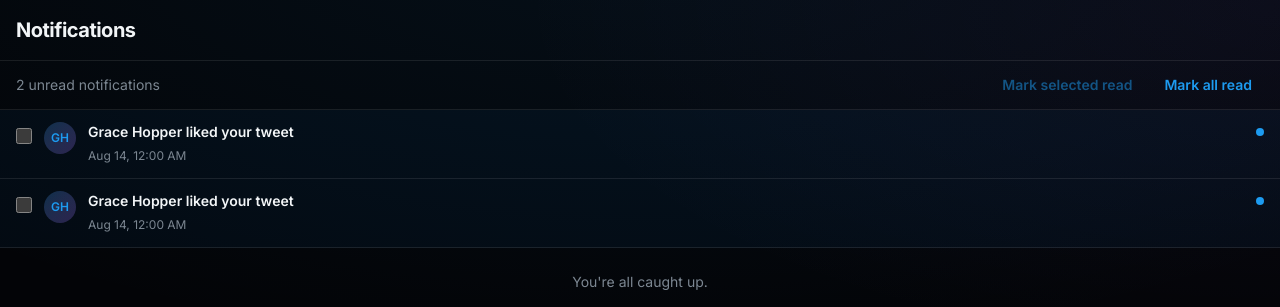
NotificationsPanel › selecting rows via checkbox enables "Mark selected read", which marks only those rows read
Expected: the text "2 unread notifications" is shown, [16,75,160,95]
Expected: the button "Mark selected read" is disabled, [990,69,1144,101]
Click the 1st checkbox named "Select notification: Grace Hopper liked your tweet": (24, 136) [16,128,32,144]
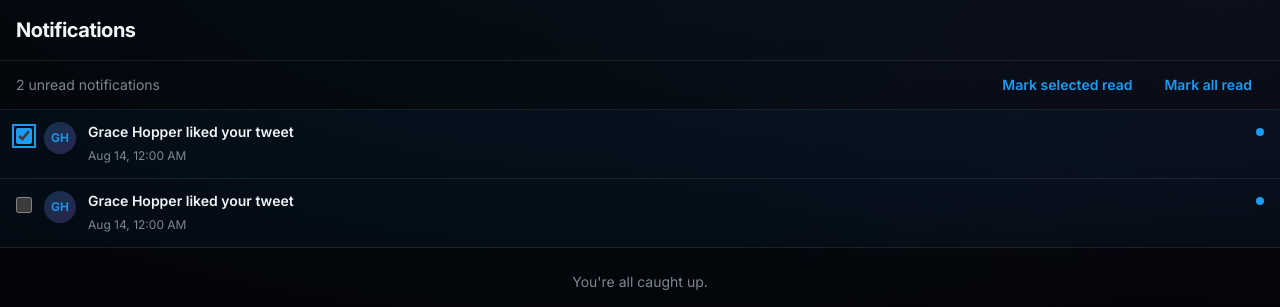
Expected: the button "Mark selected read" is enabled
Click the button "Mark selected read": (1067, 85) [990,69,1144,101]
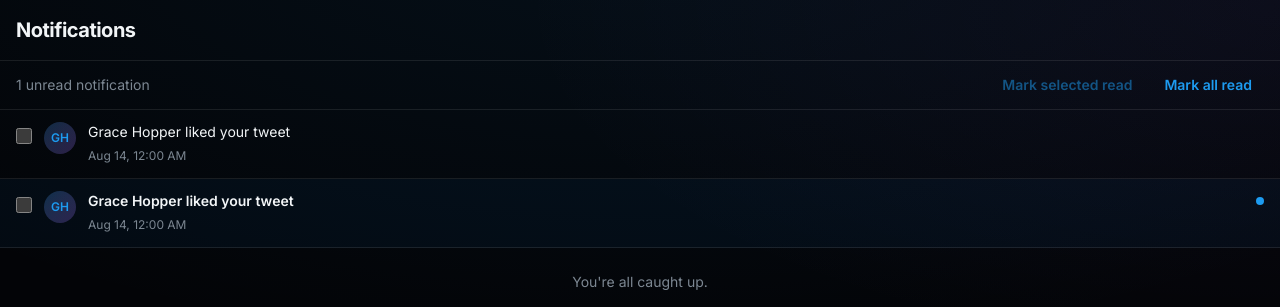
Expected: the text "1 unread notification" is shown, [16,75,150,95]
